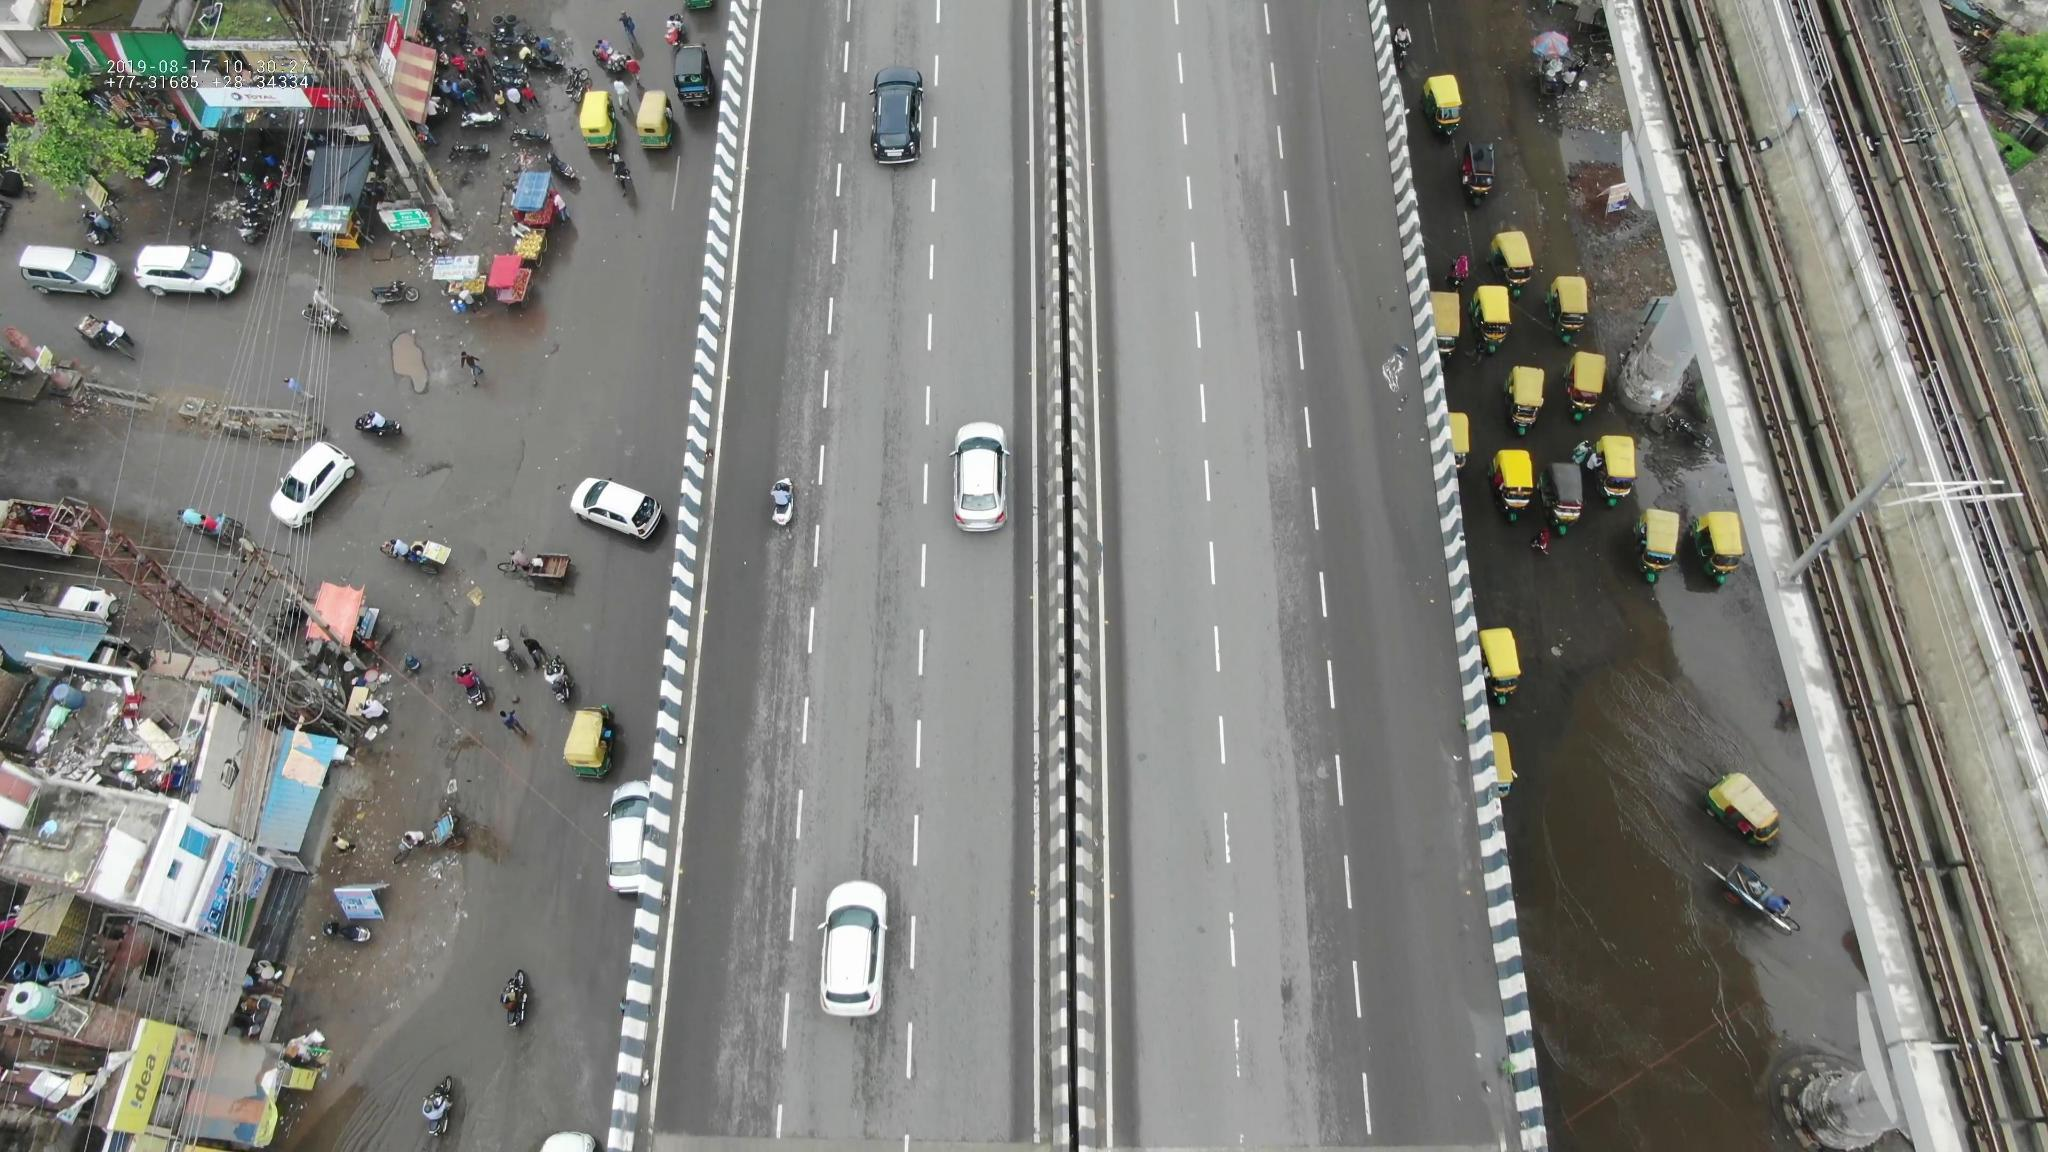Potholes: (366, 447, 480, 516), (377, 318, 444, 414)
Ravelling: (864, 557, 921, 865), (872, 295, 926, 535)
Waterlogging: (1536, 616, 1817, 1080)
